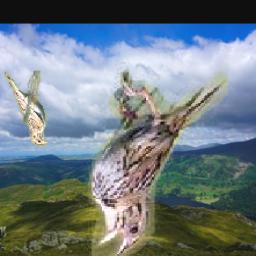Sparrow: (87, 31, 228, 256), (5, 72, 49, 147)
